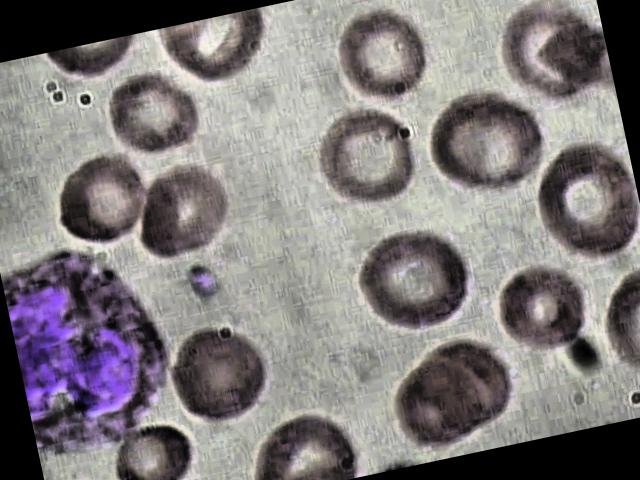Platelets: (175, 252, 222, 306)
RBC: (418, 76, 558, 200), (521, 130, 640, 271), (344, 221, 474, 343), (160, 316, 290, 438), (303, 95, 433, 216), (319, 0, 449, 119), (124, 150, 242, 268), (46, 144, 164, 262), (479, 252, 602, 364), (92, 62, 214, 174), (376, 350, 498, 462), (414, 331, 536, 443), (487, 0, 609, 111), (107, 412, 203, 480)
WBC: (0, 223, 184, 462)
